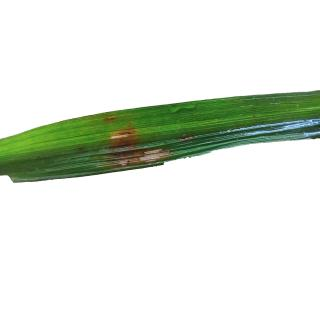Hawar-Daun: (125, 136, 167, 170), (112, 124, 140, 166), (178, 132, 194, 146), (100, 110, 118, 122)
